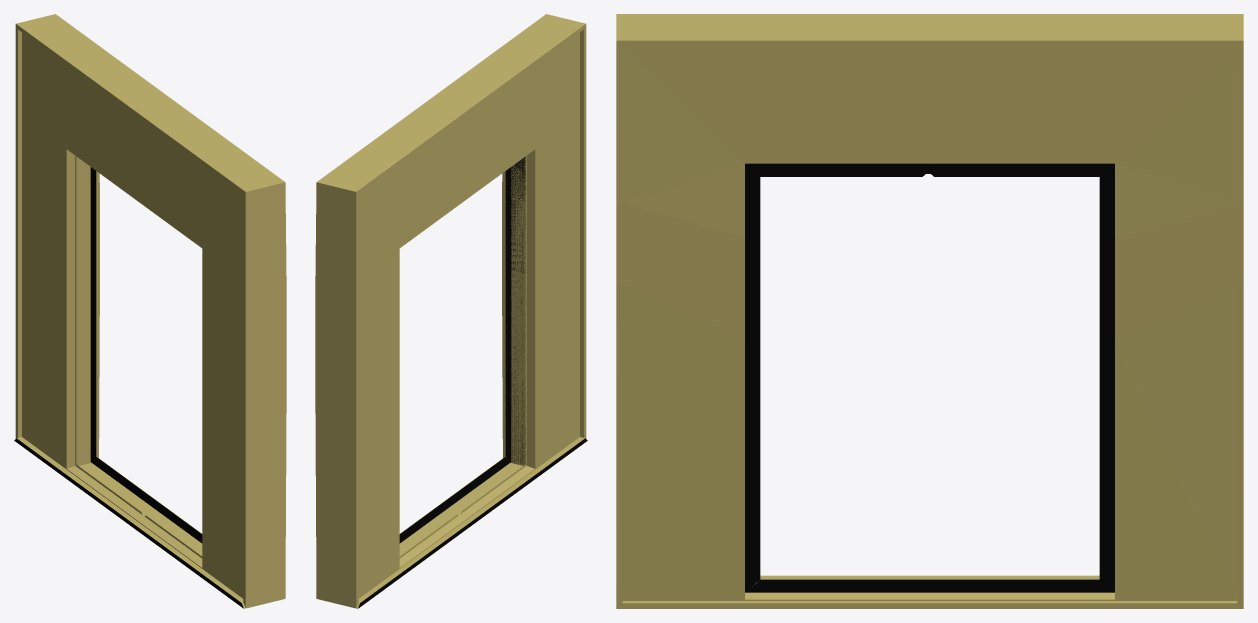
Rendered from simpleDoor.obj.
3 views of the same model, side by side, from view 1: azimuth 30°, elevation 25°; view 2: azimuth 150°, elevation 25°; view 3: azimuth 270°, elevation 25° (orthographic). The views are drawn at different scales.
Parts seen in each view (by area): view 1: Door1_Cube.012; view 2: Door1_Cube.012; view 3: Door1_Cube.012.
Part boxes in pixels (box(x1,y1,x2,y2)): Door1_Cube.012: box(14, 14, 286, 608); Door1_Cube.012: box(315, 14, 587, 608); Door1_Cube.012: box(616, 14, 1243, 608).
Bounding box in the file's own units: 0.1073 × 1 × 1.
